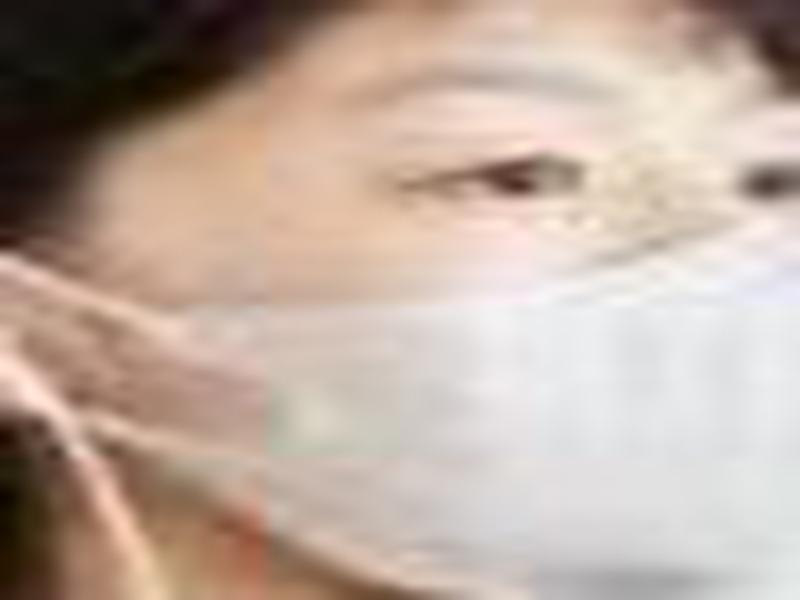with_mask: (1, 3, 795, 600)
